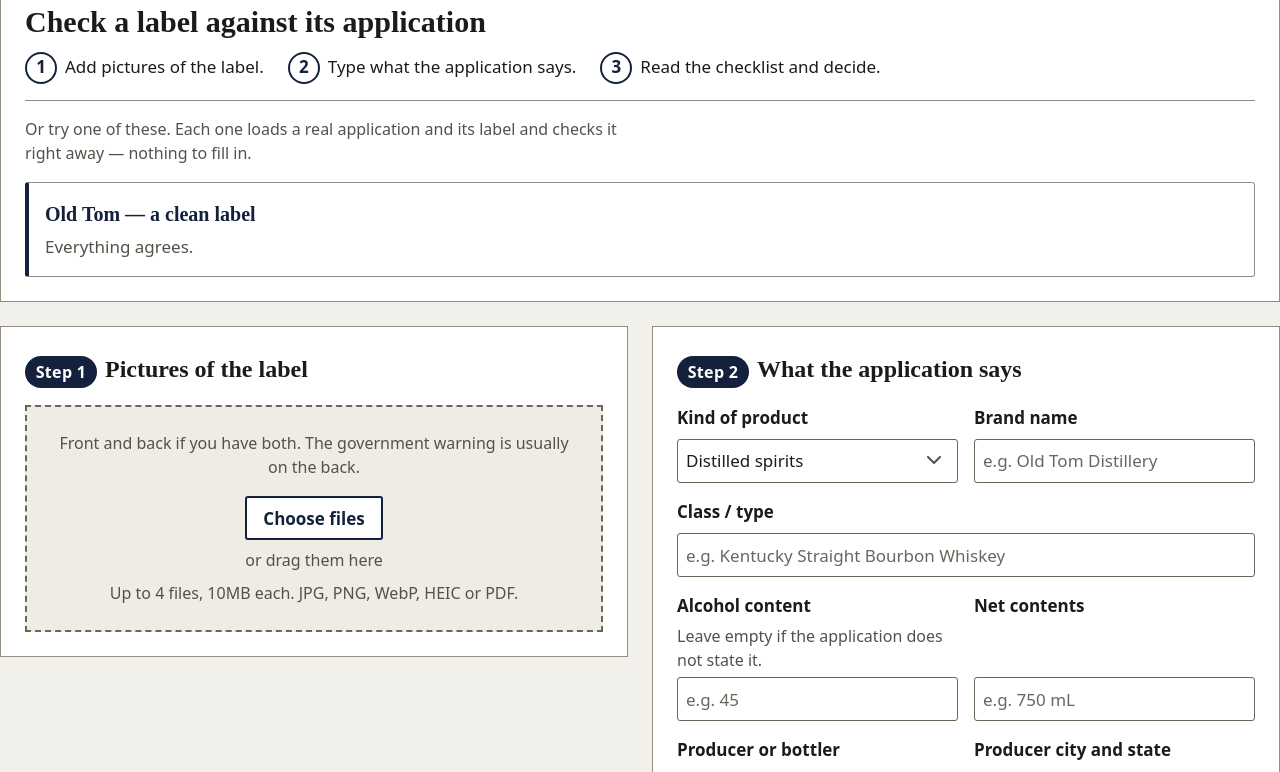
Test: the evidence panel › numbers from the regions, so a row with no outline does not shift the rest
This screenshot has width=1280, height=772.
Step 1. Click the button "Old Tom — a clean label Everything agrees." → click(150, 214), box [25, 182, 1255, 277]
(page scrolled)
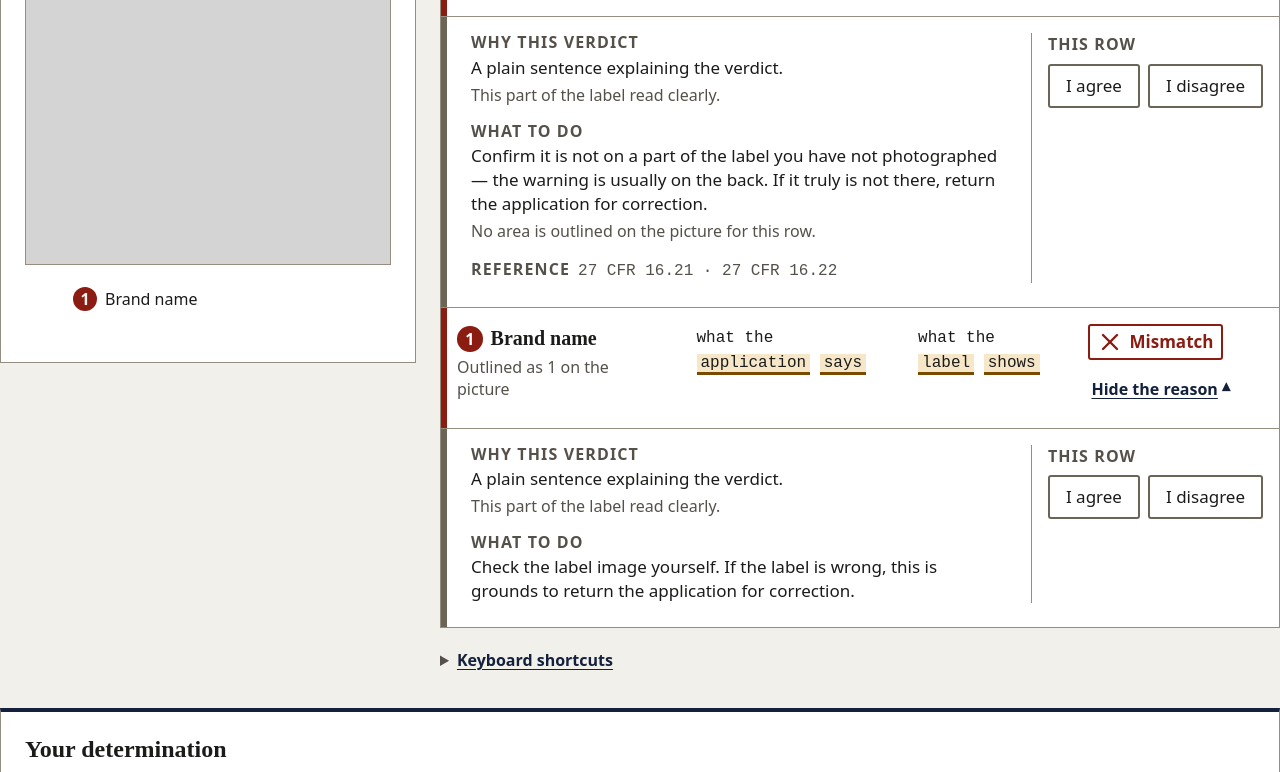
Expected: the text "Outlined as 1 on the picture" is shown, [457, 356, 609, 400]
